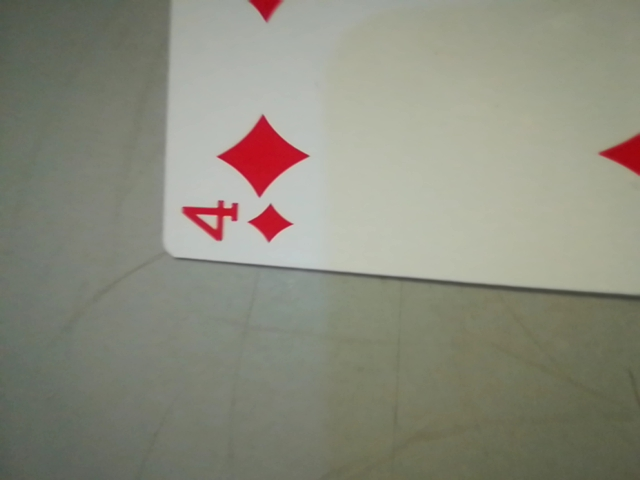fk 4: (176, 189, 301, 254)
